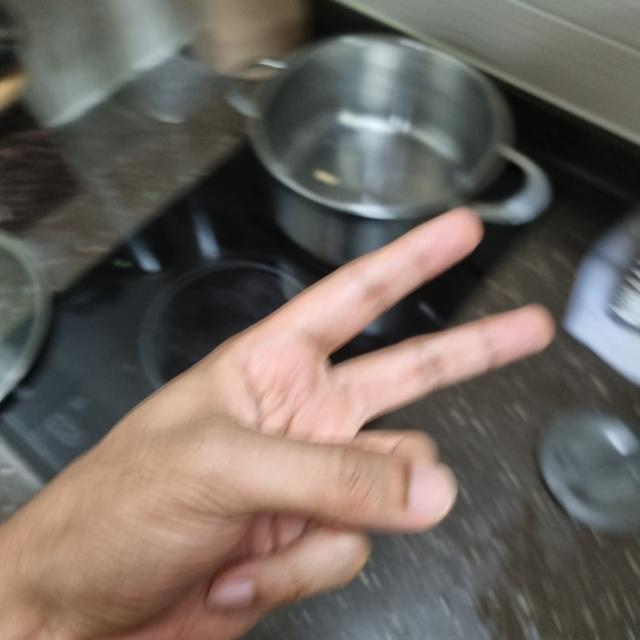Scissors: (3, 212, 550, 639)
